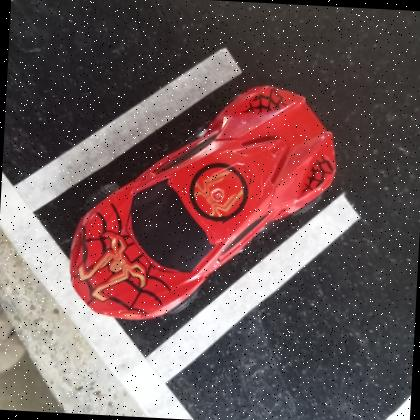Car: (67, 85, 338, 321)
